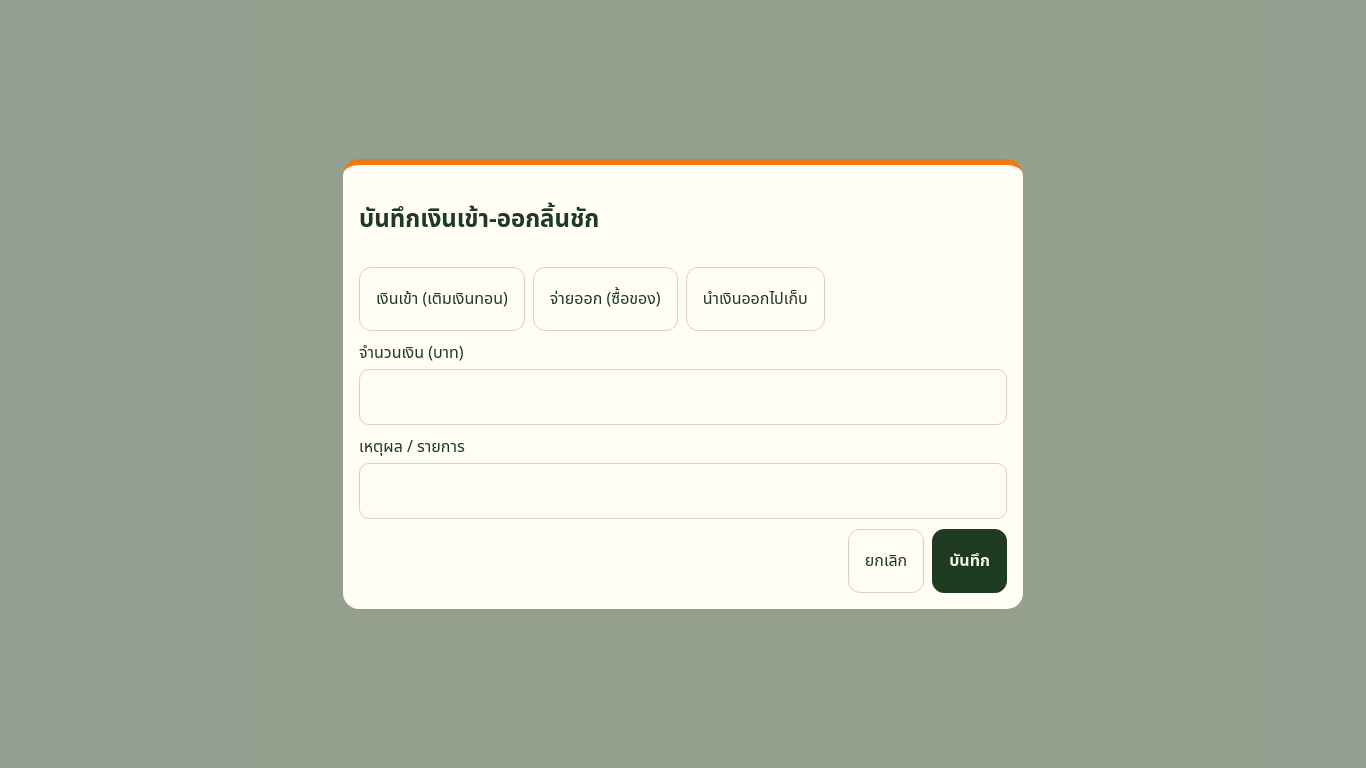
Test: CashMoveDialog — Q3b-14 · D54 blind over-drawer confirm › paid-out over the expected drawer cash warns and does not save on the first press, without naming the figure
The image size is (1366, 768).
Step 1. Click the button with test id "cash-kind-PAID_OUT" → x=605, y=299, box x1=533 y1=267 x2=678 y2=331
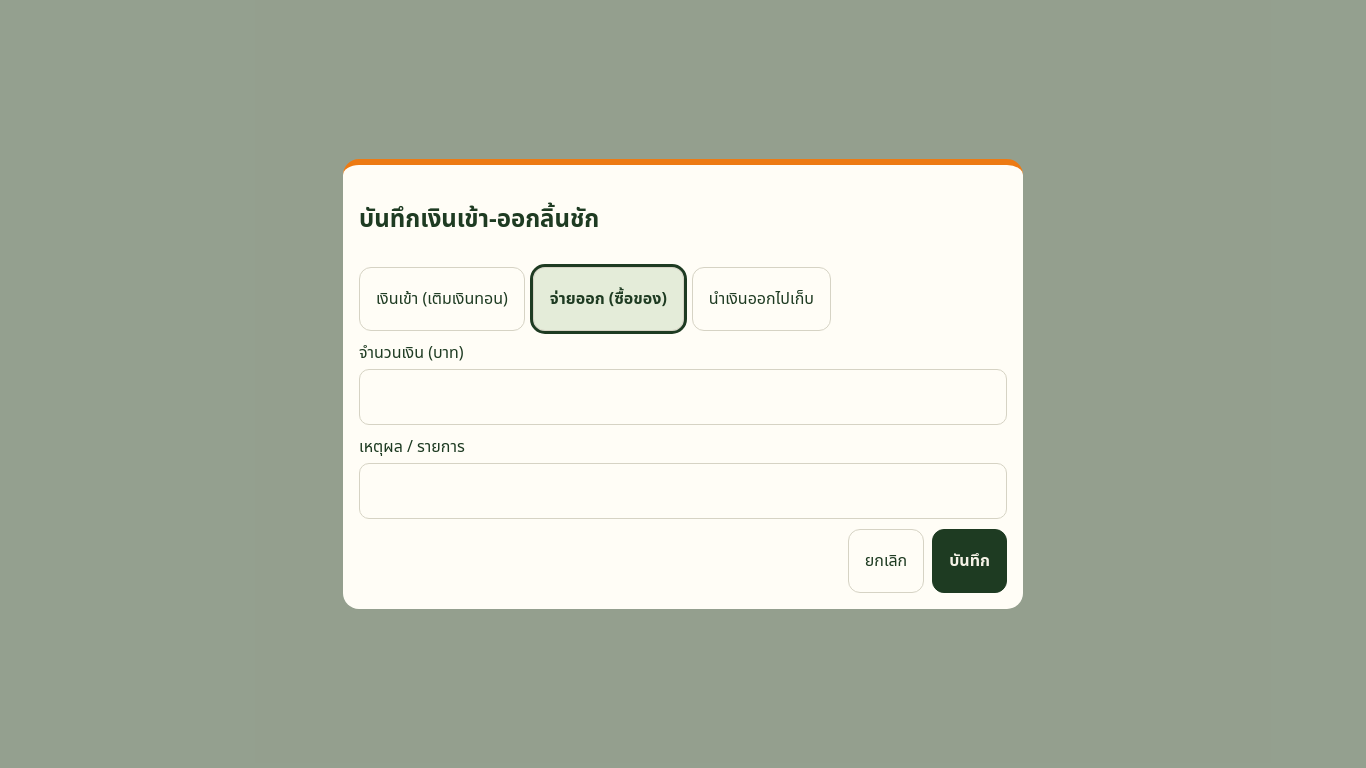
Step 2. Type "600" into the field with test id "cash-amount" → x=683, y=397, box x1=359 y1=369 x2=1007 y2=425
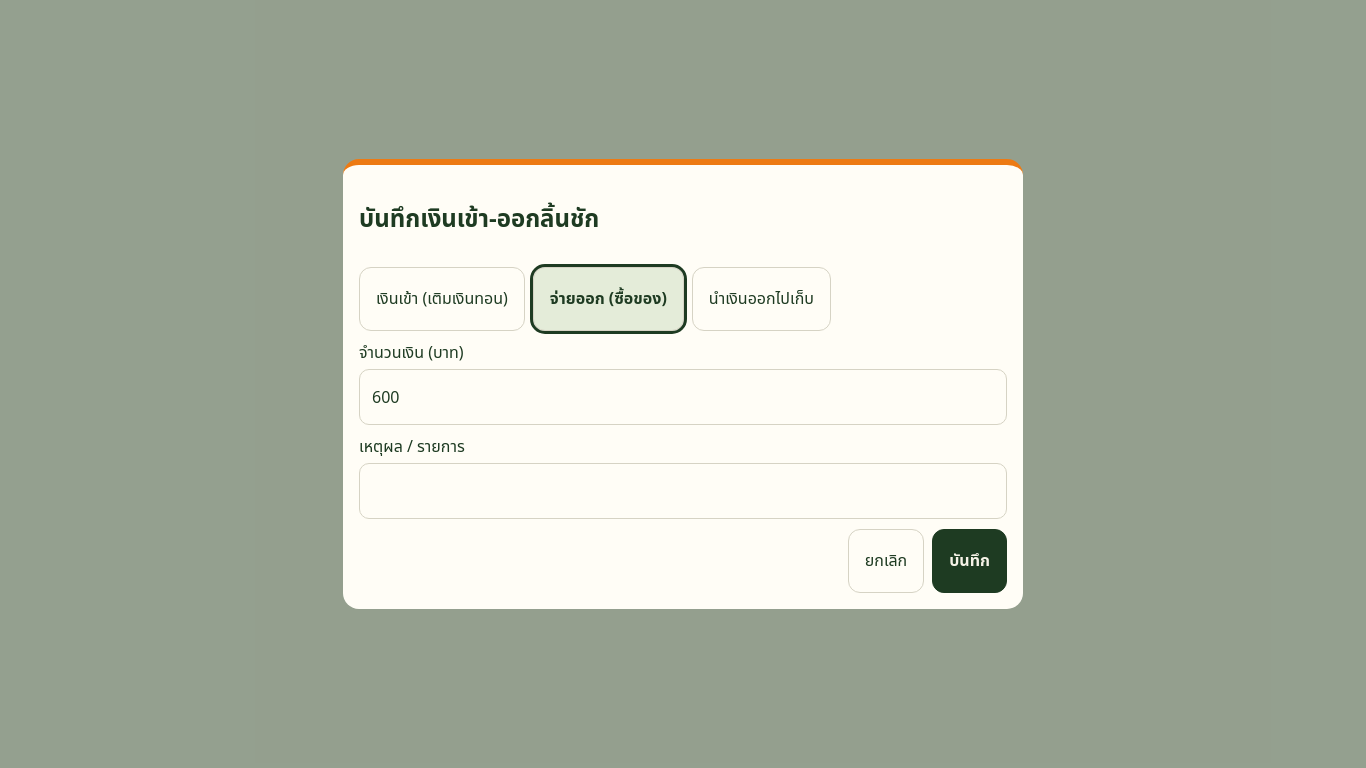
Step 3. Type "ซื้อของ" into the field with test id "cash-reason" → x=683, y=491, box x1=359 y1=463 x2=1007 y2=519
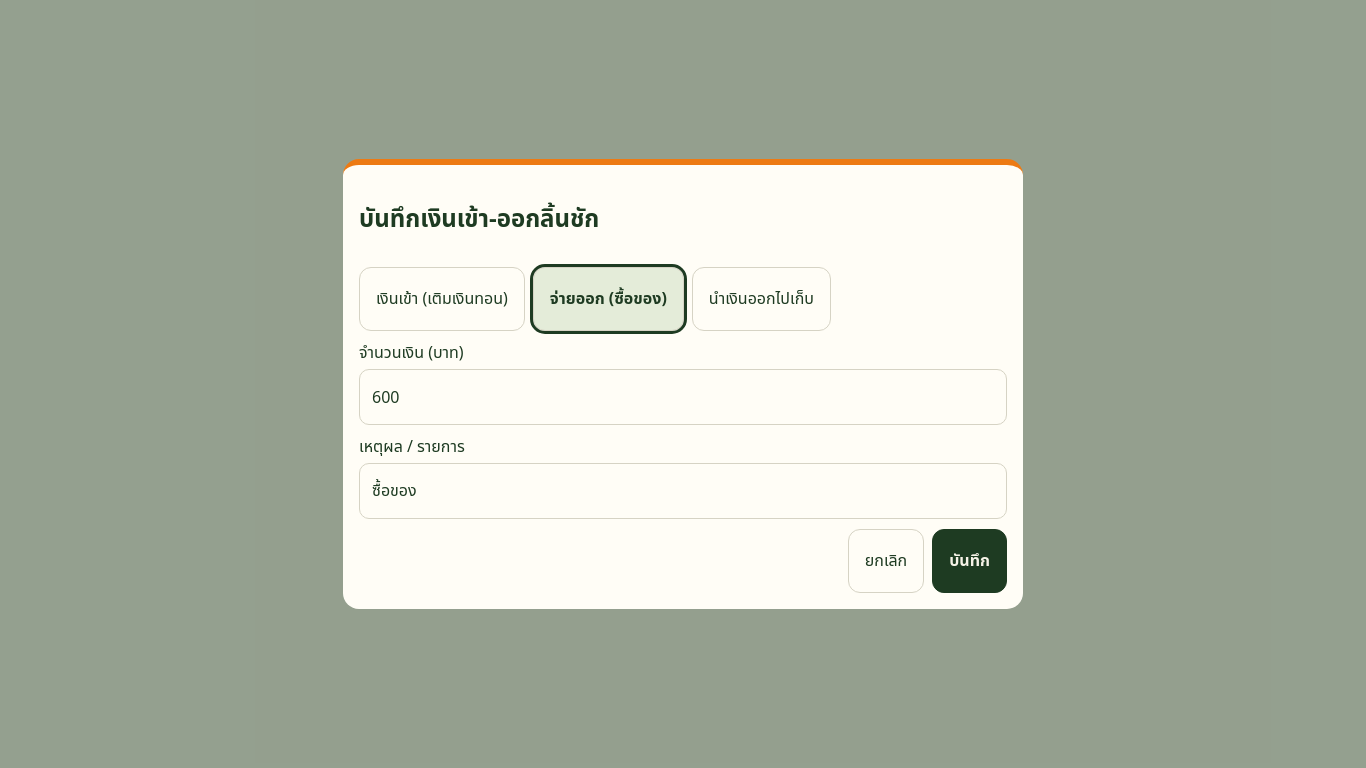
Step 4. Click the button with test id "cash-save" → x=970, y=561, box x1=932 y1=529 x2=1007 y2=593
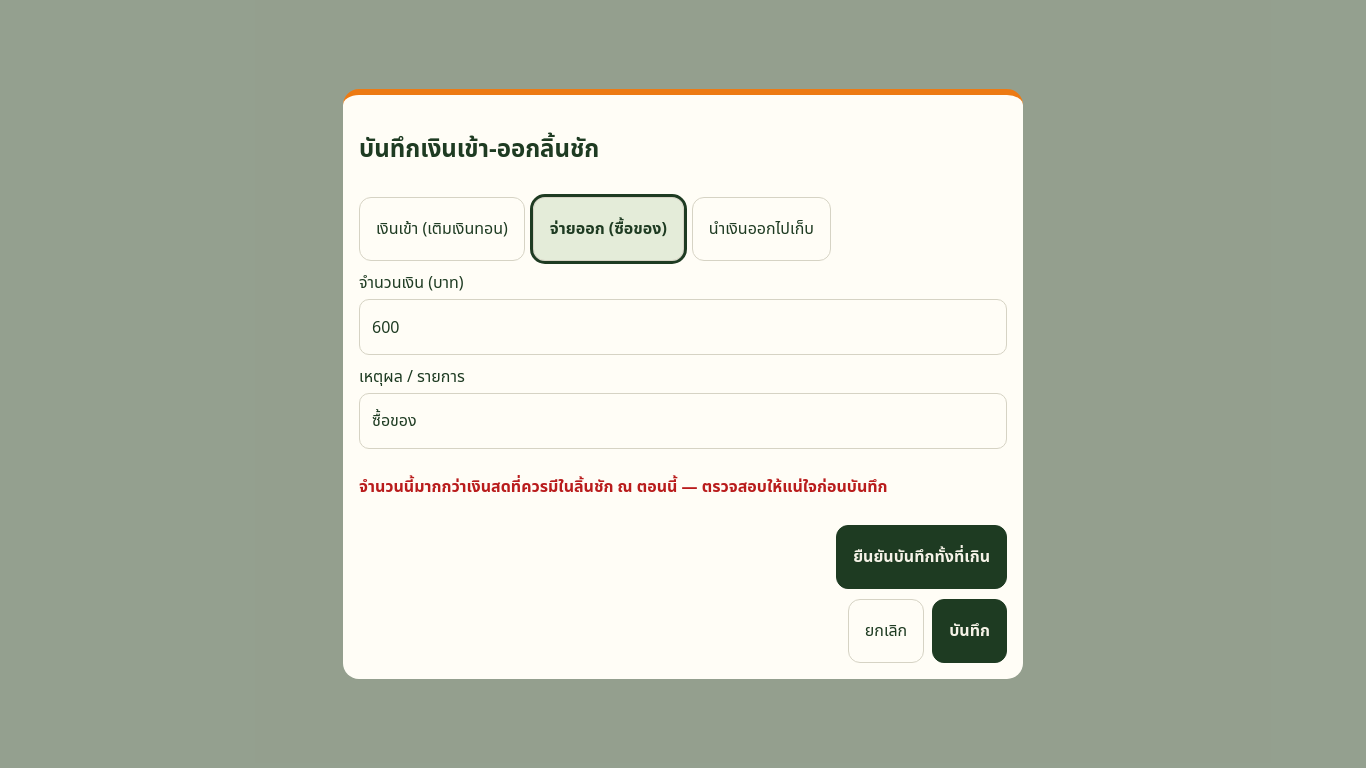
Result: the message "จำนวนนี้มากกว่าเงินสดที่ควรมีในลิ้นชัก ณ ตอนนี้ — ตรวจสอบให้แน่ใจก่อนบันทึก" is shown at x1=359 y1=475 x2=888 y2=497
